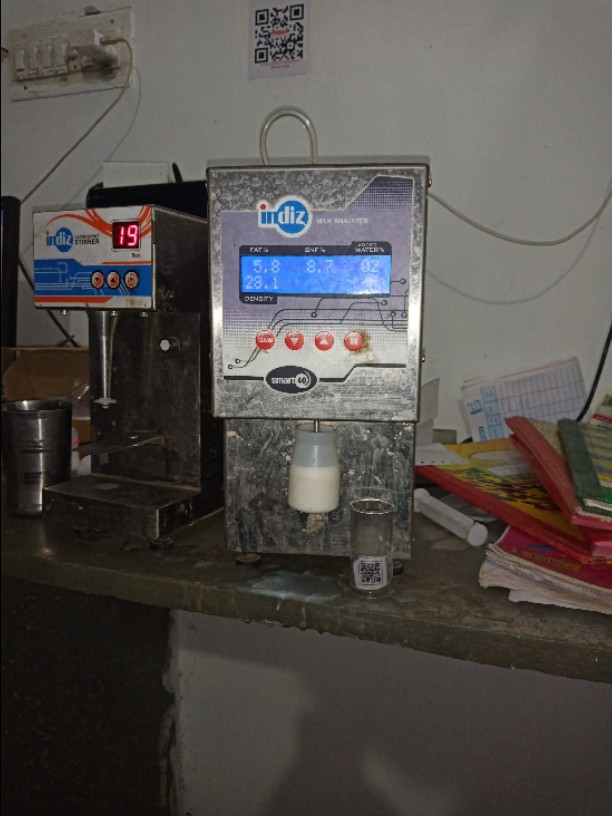lcd: (232, 247, 395, 305)
qr: (354, 558, 393, 590)
